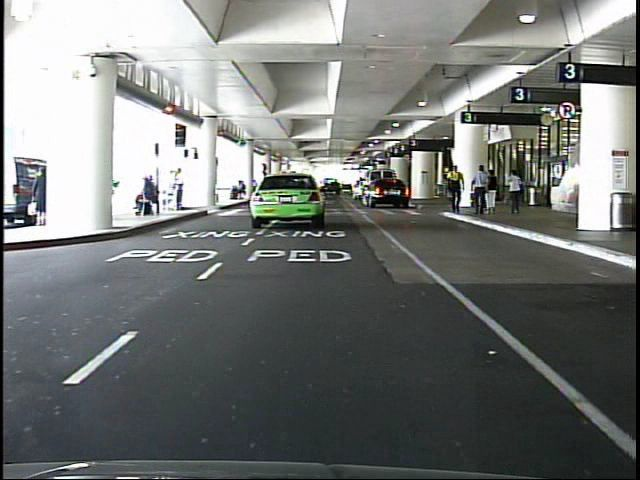person: (30, 168, 58, 226), (443, 161, 468, 219), (500, 167, 525, 218), (471, 161, 491, 220), (485, 165, 501, 219), (173, 168, 191, 215)
